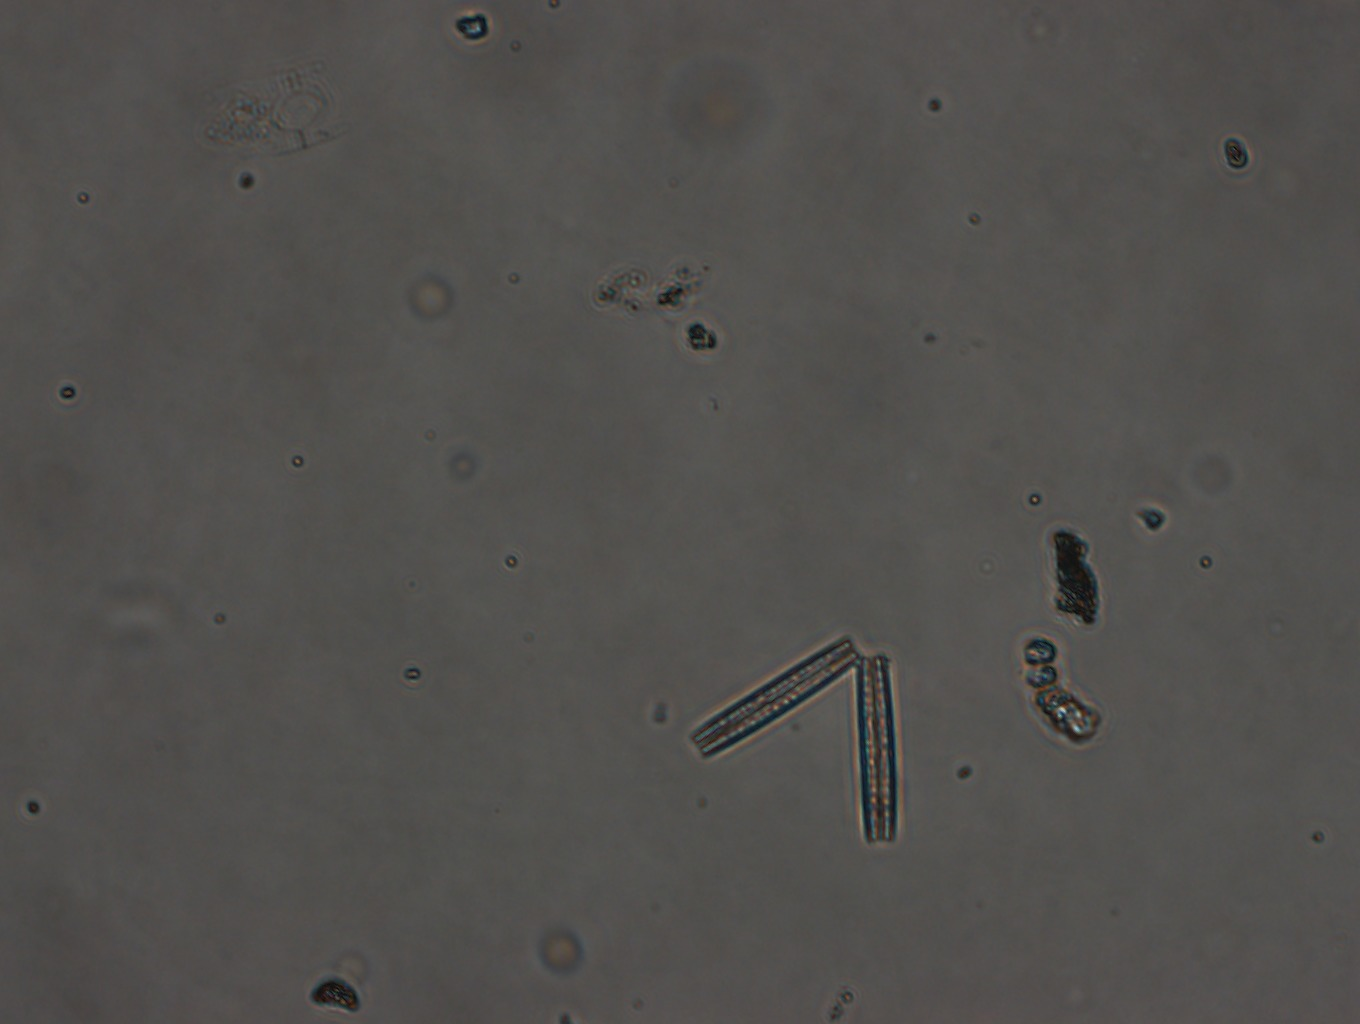thalassionema nitzschioides: (687, 622, 904, 847)
